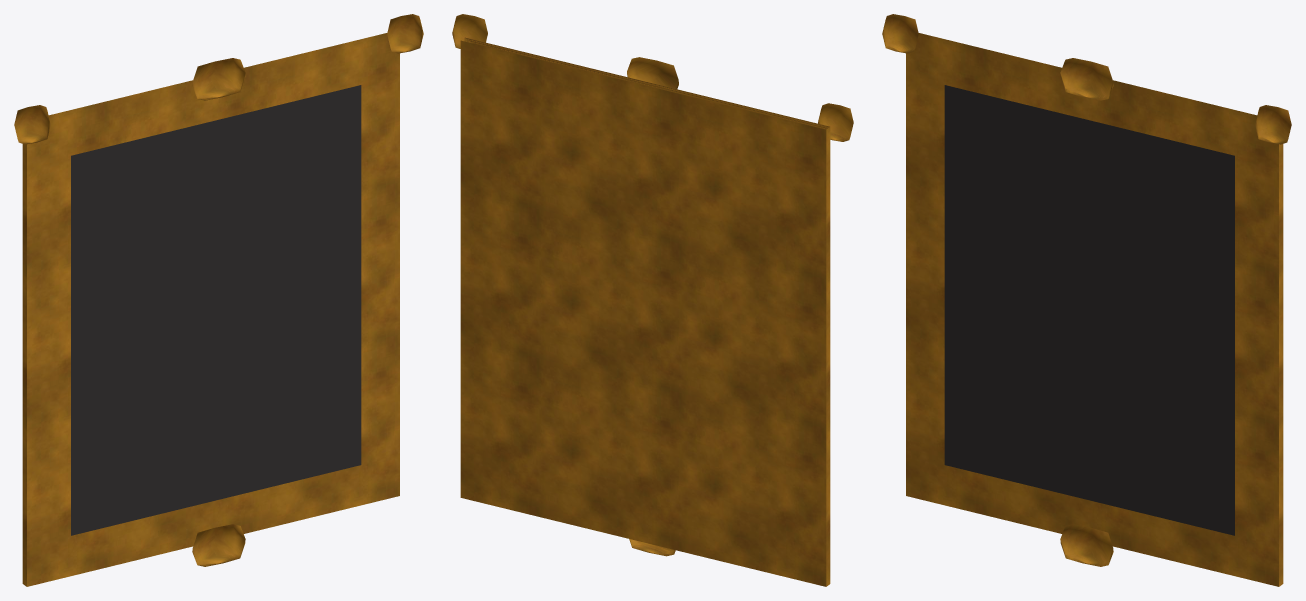
File: mn_frame_1.glb
3 renders of one model, left to right at view 1: azimuth 30°, elevation 25°; view 2: azimuth 150°, elevation 25°; view 3: azimuth 330°, elevation 25°, orthographic.
Visible parts, largest first — view 1: mn_frame; view 2: mn_frame; view 3: mn_frame.
Boxes of the visible parts, x1=… form: mn_frame: x1=14, y1=14, x2=423, y2=586; mn_frame: x1=452, y1=14, x2=853, y2=586; mn_frame: x1=882, y1=14, x2=1291, y2=586.
Size of the model in its own units: 1.68 by 1.98 by 0.11.
2 materials, 1 textured.
